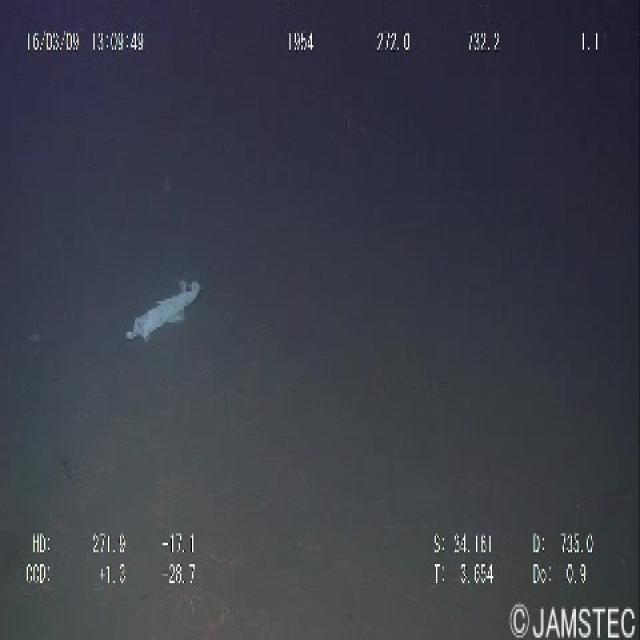plastic: (115, 263, 206, 353)
